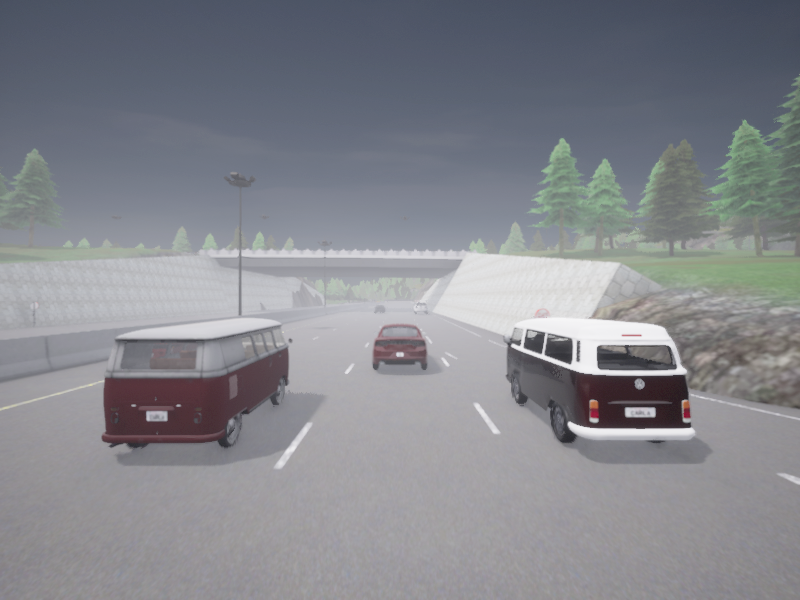vehicle: (101, 318, 292, 448), (504, 318, 694, 444), (372, 323, 427, 368), (413, 302, 426, 313), (375, 305, 386, 313)
